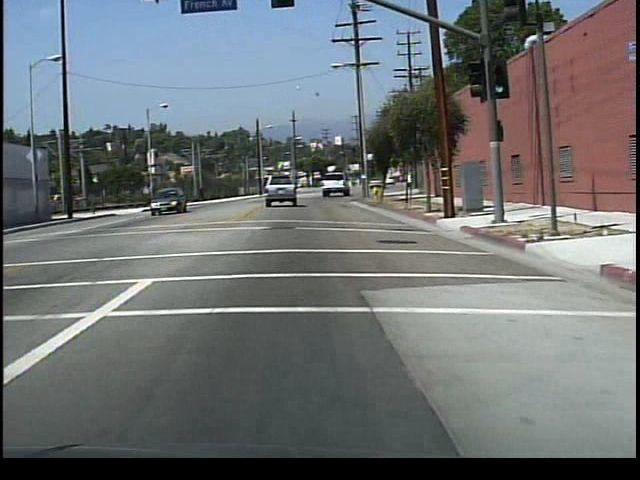person: (198, 184, 209, 205)
